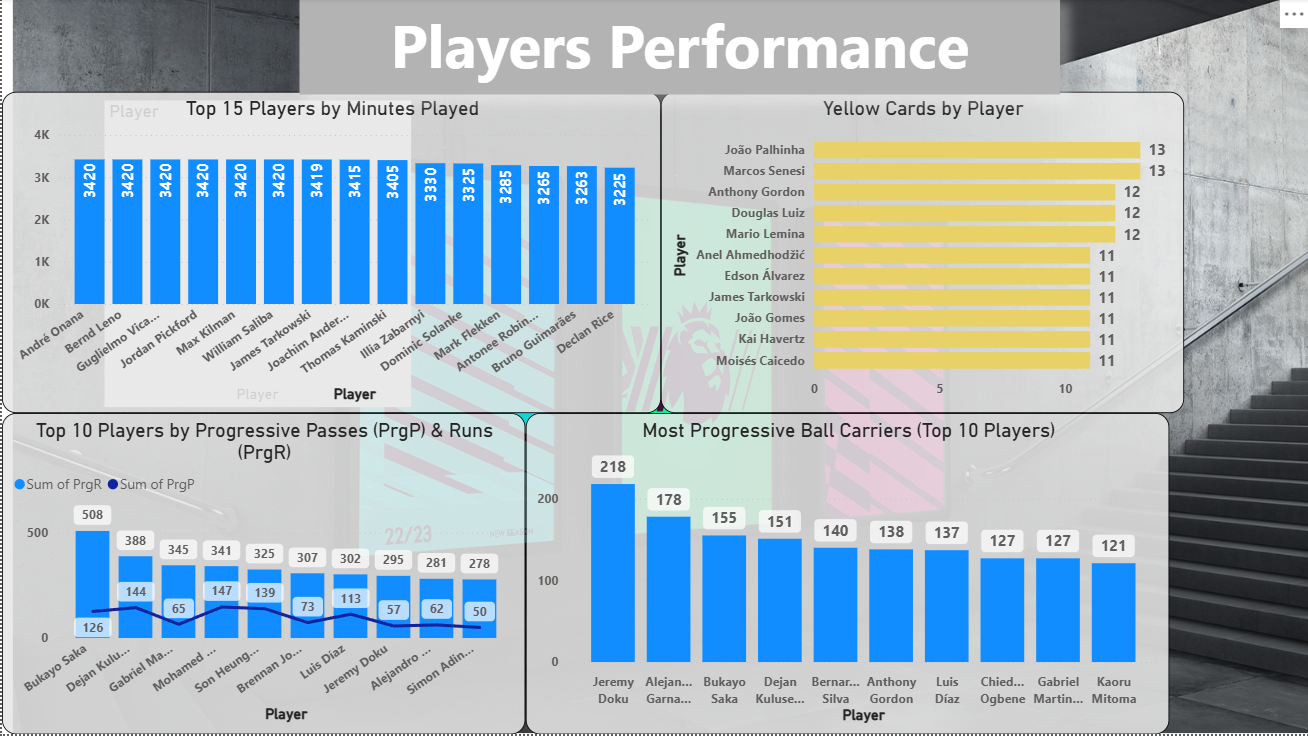

The page's visual inventory and layout, read from the dashboard file:
{"tool":"powerbi","page":{"name":"Page 6","canvas":[1280,720],"ordinal":5},"visuals":[{"type":"image","box":[9.3,0,1270.7,720.4],"z":0},{"type":"lineStackedColumnComboChart","title":"Most Progressive Ball Carriers (Top 10 Players)","fields":{"Category":["premier-player-23-24.Player"],"Y":["Sum(premier-player-23-24.PrgC)"]},"box":[511.8,406.2,629.8,314.2],"z":1000},{"type":"lineStackedColumnComboChart","title":"Top 10 Players by Progressive Passes (PrgP) & Runs (PrgR)","fields":{"Category":["premier-player-23-24.Player"],"Y":["Sum(premier-player-23-24.PrgR)"],"Y2":["Sum(premier-player-23-24.PrgP)"]},"box":[0,406.2,511.8,314.2],"z":2000},{"type":"clusteredBarChart","fields":{"Category":["premier-player-23-24.Player"],"Y":["ALL_MEASURES.Yellow Cards"]},"box":[644.9,91.9,511.8,314.2],"z":3000},{"type":"columnChart","fields":{"Category":["premier-player-23-24.Player"]},"box":[100,100,300,300],"z":4000},{"type":"clusteredColumnChart","title":"Top 15 Players by Minutes Played","fields":{"Category":["premier-player-23-24.Player"],"Y":["Sum(premier-player-23-24.Min)"]},"box":[0,91.9,644.9,314.2],"z":5000},{"type":"textbox","box":[290.8,0,744.3,94.6],"z":6001}]}

Visuals, with their boxes in screenshot pixels (x1, y1, x2, y2), scaled from the page's 1280x720 canvas onto the 1308x736 screenshot:
image: 10 0 1307 735
"Most Progressive Ball Carriers (Top 10 Players)" lineStackedColumnComboChart: 523 415 1167 735
"Top 10 Players by Progressive Passes (PrgP) & Runs (PrgR)" lineStackedColumnComboChart: 0 415 523 735
clusteredBarChart - premier-player-23-24.Player x ALL_MEASURES.Yellow Cards: 659 94 1182 415
columnChart - premier-player-23-24.Player: 102 102 409 409
"Top 15 Players by Minutes Played" clusteredColumnChart: 0 94 659 415
textbox: 297 0 1058 97
